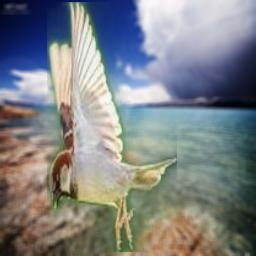Sparrow: (47, 2, 177, 252)
